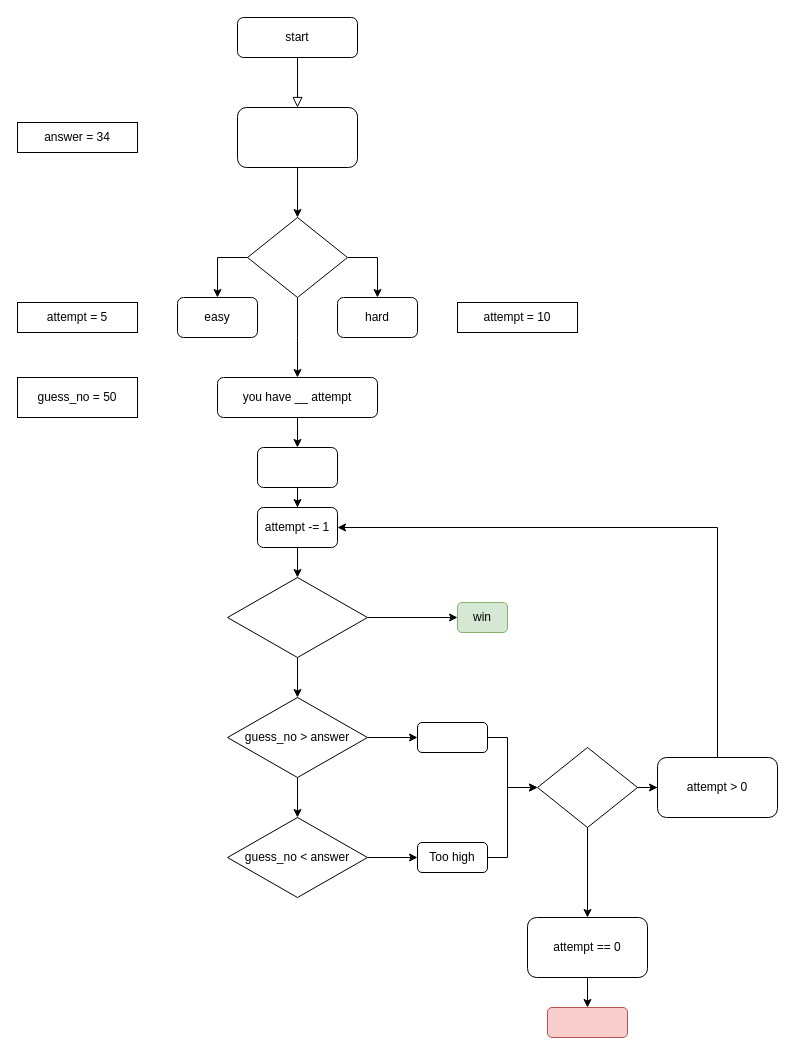
The diagram is 795 pixels wide and 1055 high, and some of its shapes have lost their labels. The centre of each missing label's shape, as x and y in pixels:
"Assign a random number between 1-100" goes at (297,137).
"check attempt" goes at (587,787).
"difficulty" goes at (297,257).
"guess_no == answer" goes at (297,617).
"lose" goes at (587,1022).
"make a guess" goes at (297,467).
"Too low" goes at (452,737).
